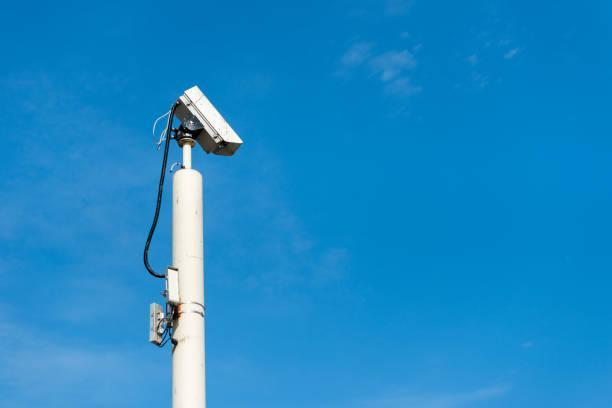camera: (138, 64, 252, 163)
